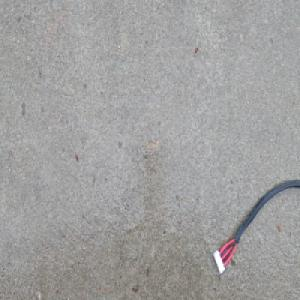Wire: (212, 178, 300, 274)
